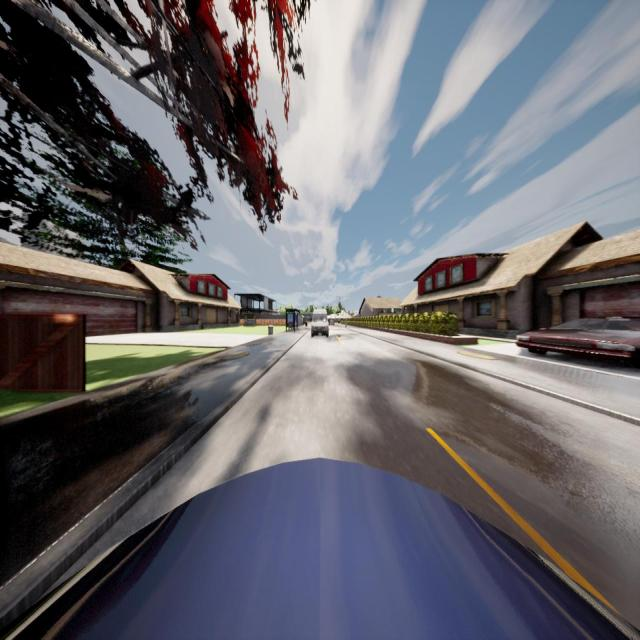Vehicle: (0, 457, 640, 640), (516, 317, 640, 365), (310, 309, 330, 338), (329, 320, 334, 326)
